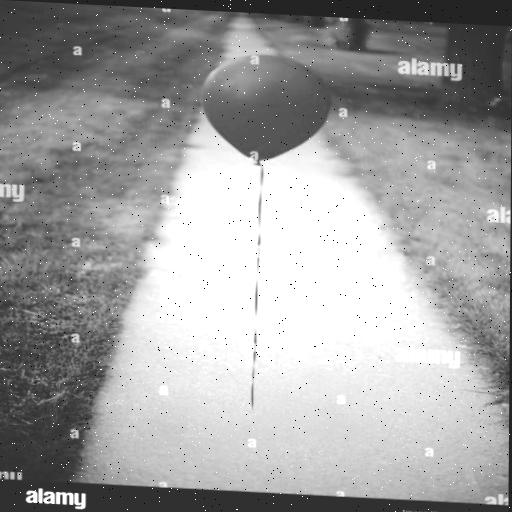balloon: (192, 46, 338, 175)
